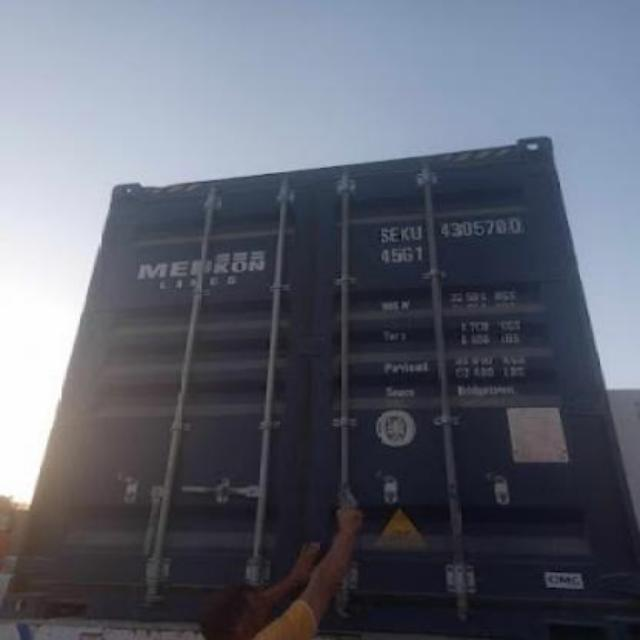0: (508, 214, 522, 238), (494, 216, 506, 237), (460, 218, 472, 238)
3: (450, 214, 460, 242)
4: (436, 220, 448, 240)
5: (472, 216, 484, 240)
7: (482, 216, 494, 240)
E: (388, 223, 398, 244)
K: (398, 222, 410, 244)
S: (376, 223, 389, 244)
U: (410, 219, 422, 243)
